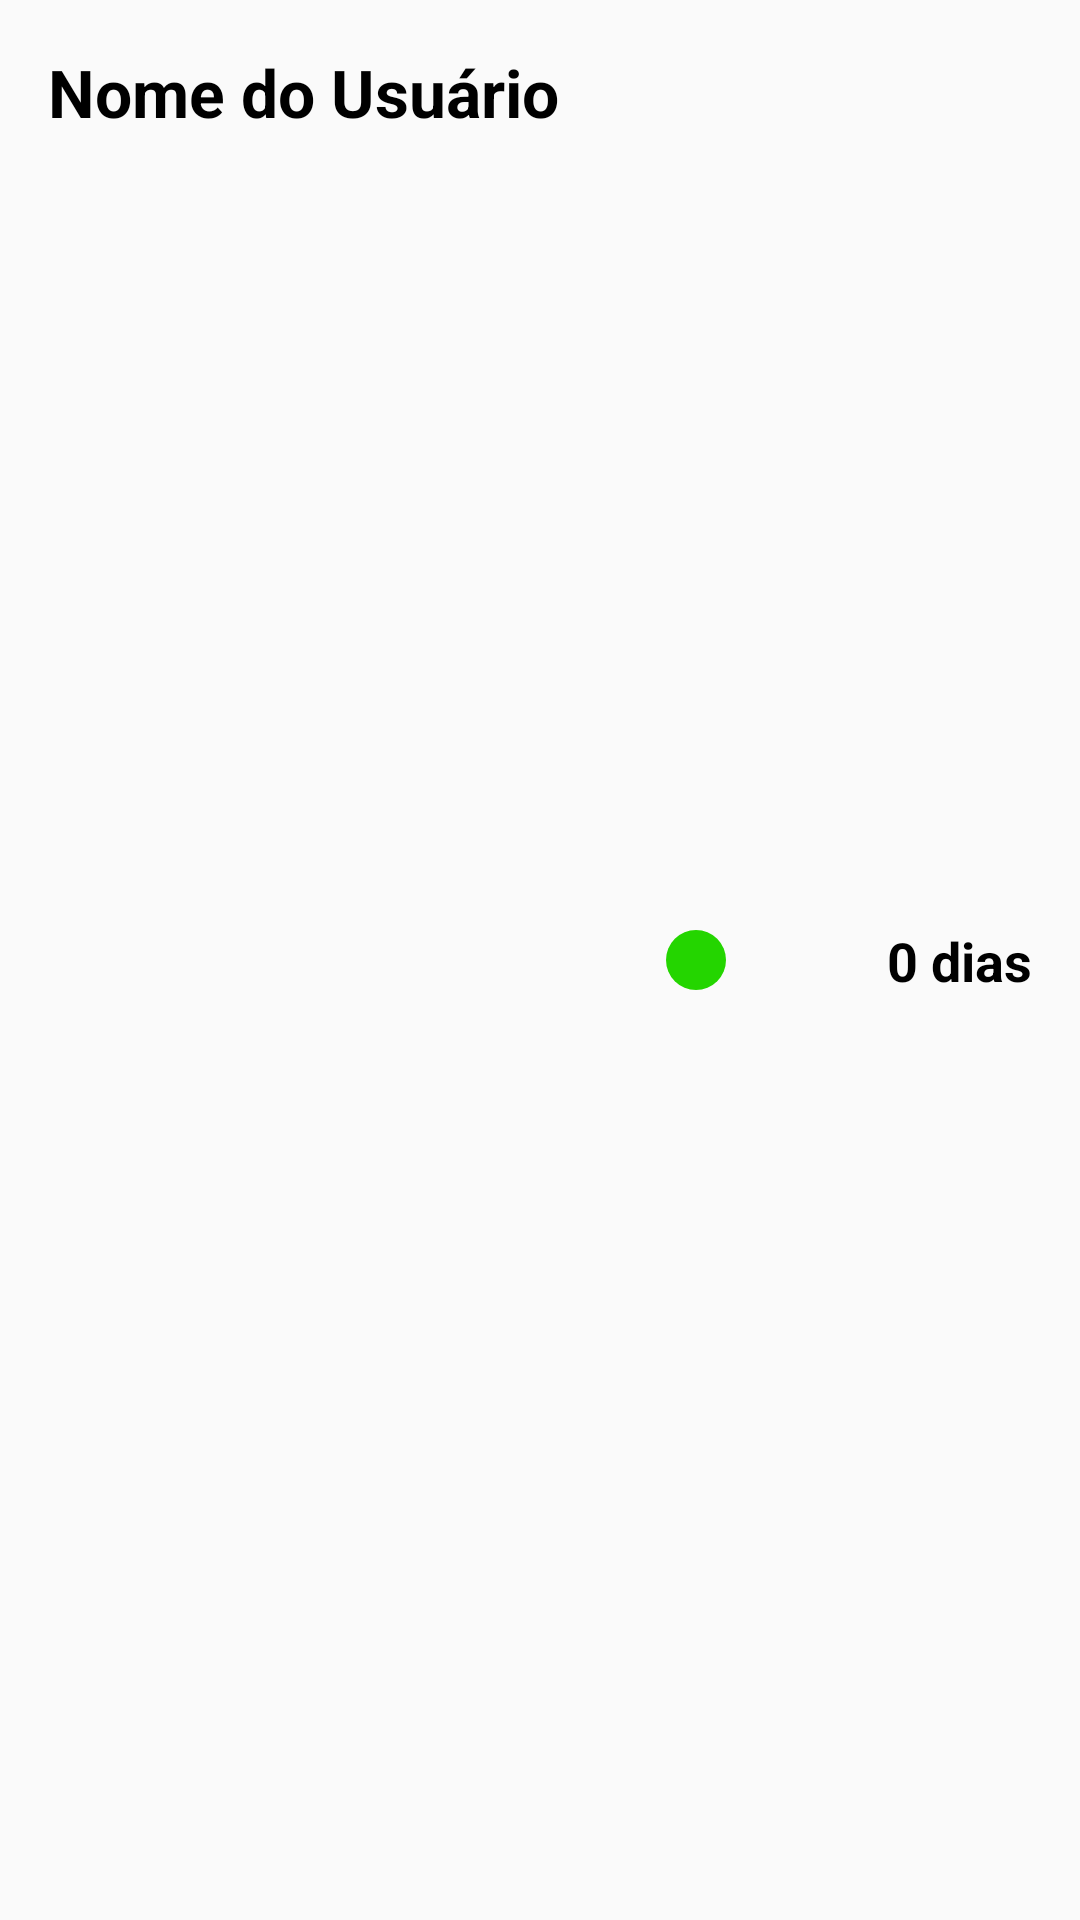

Icons on this 1080x1920 Android screen, each with its box as (x1, y1, x2, y2):
status on: (666, 930, 726, 990)
